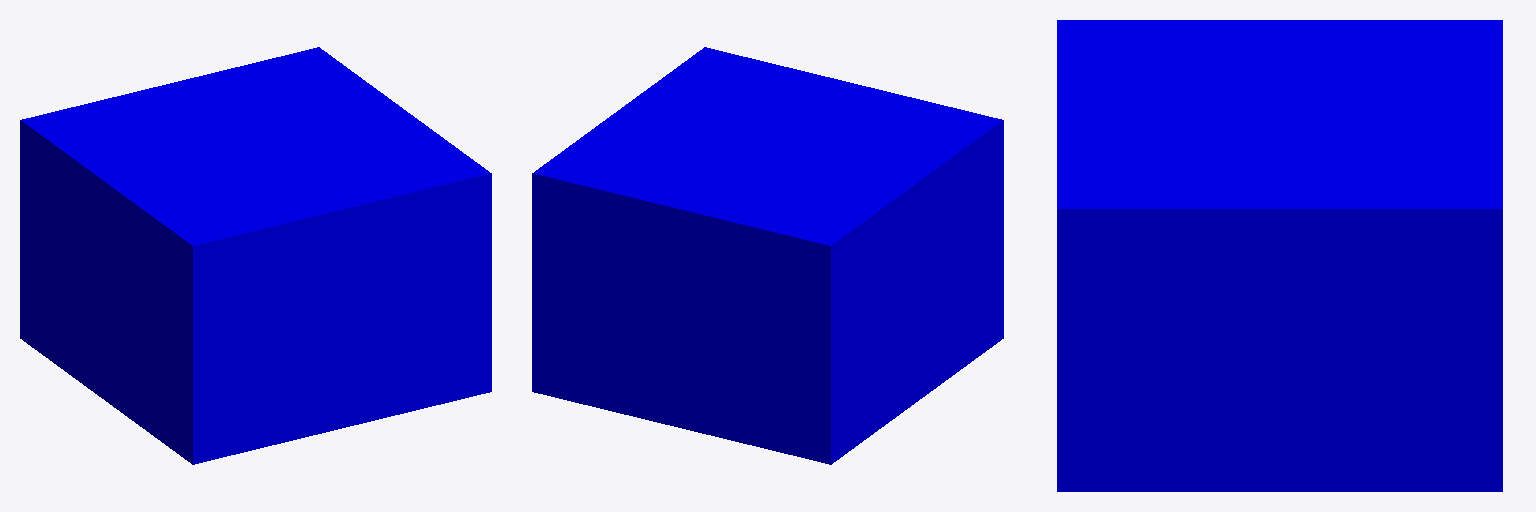
URDF robot description (box8):
<?xml version="1.0"?>
<robot name="box8">
	<link name="base">
		<visual>
			<origin xyz="0 0 0" rpy="0 0 0" />
			<geometry>
				<box size="0.1 0.1 0.07" />
			</geometry>
			<material name="blue">
				<color rgba="0 0 1 1" />
			</material>
		</visual>
	</link>
</robot>

--- Facts derived from the render (not from the file) ---
3 views of the same robot in one strip: view 1: azimuth 30°, elevation 25°; view 2: azimuth 150°, elevation 25°; view 3: azimuth 270°, elevation 25° (orthographic).
Model box8 with 1 links and 0 joints (none), rooted at base, posed all joints at 0.
Visible links, largest first — view 1: base; view 2: base; view 3: base.
Link boxes in pixels (x1=…): base: x1=20, y1=47, x2=491, y2=464; base: x1=532, y1=47, x2=1003, y2=464; base: x1=1057, y1=20, x2=1502, y2=491.
Bounding box of the posed robot: 0.1 × 0.1 × 0.07 m (x, y, z).
Geometry: primitives only (box / cylinder / sphere), no mesh files.
